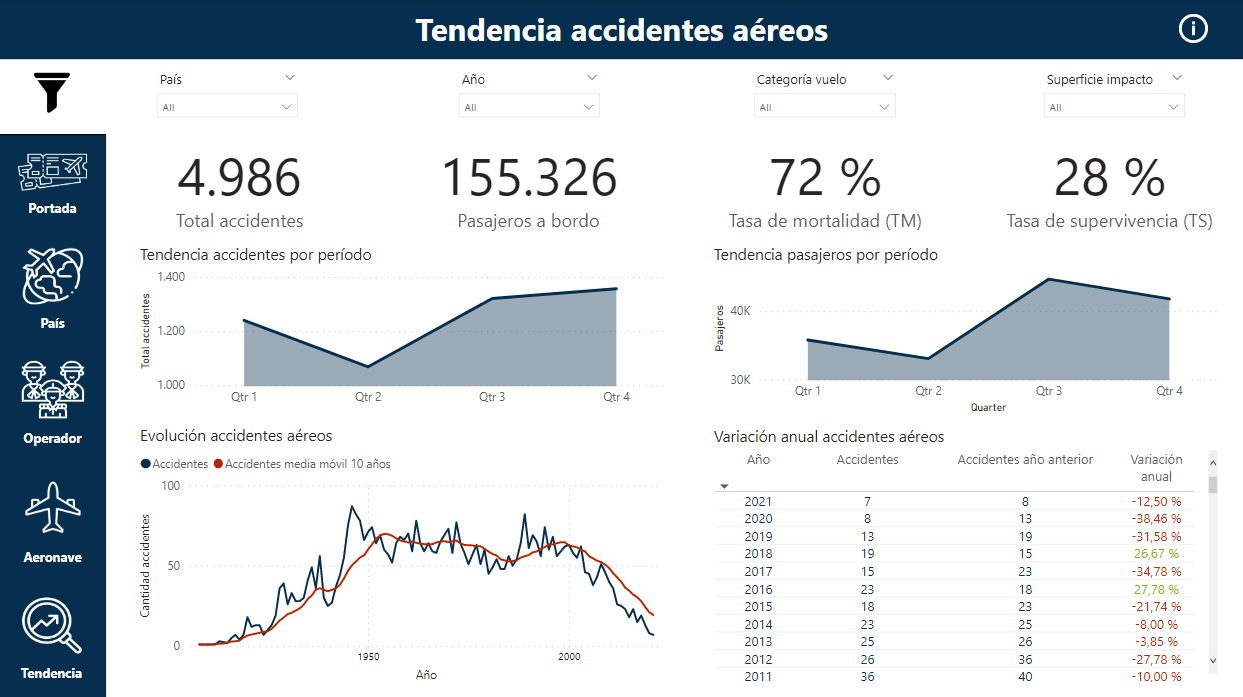

This screenshot's page, from the dashboard's own definition file:
{"tool":"powerbi","page":{"name":"Tendencia","canvas":[1280,720],"ordinal":4},"visuals":[{"type":"shape","box":[0,0,1280,61.8],"z":0},{"type":"image","box":[16.4,366.8,80.9,69.3],"z":0,"group":"g3"},{"type":"textbox","box":[25,3,1233,55],"z":1000},{"type":"textbox","box":[16.4,436.2,80.9,28.8],"z":1000,"group":"g3"},{"type":"image","box":[31,68.2,51.4,55.8],"z":2000},{"type":"image","box":[16.4,139.1,80.9,76.2],"z":2001,"group":"g1"},{"type":"image","box":[16.4,250.7,80.9,67.7],"z":2002,"group":"g2"},{"type":"image","box":[16.4,484.8,80.9,74.1],"z":2003,"group":"g4"},{"type":"image","box":[15.5,607.3,80.9,69.6],"z":2005,"group":"g5"},{"type":"textbox","box":[16.4,318.5,80.9,28.5],"z":2007,"group":"g2"},{"type":"textbox","box":[16.4,559,80.9,28.6],"z":2009,"group":"g4"},{"type":"textbox","box":[15.5,676.9,80.9,28.5],"z":2010,"group":"g5"},{"type":"textbox","box":[16.4,199.8,80.9,31.3],"z":2011,"group":"g1"},{"type":"shape","box":[0,139,112,581],"z":3000},{"type":"group","id":"g1","title":"Group 1","box":[16.4,139.1,80.9,91.8],"z":4000},{"type":"group","id":"g2","title":"Group 2","box":[16.4,250.7,80.9,96.4],"z":5000},{"type":"group","id":"g3","title":"Group 3","box":[16.4,366.8,80.9,98.2],"z":6000},{"type":"group","id":"g4","title":"Group 4","box":[16.4,484.8,80.9,102.7],"z":7000},{"type":"group","id":"g5","title":"Group 5","box":[15.5,607.3,80.9,98.2],"z":8000},{"type":"slicer","fields":{"Values":["calendar.Year"]},"box":[464.1,68.2,164.7,55.8],"z":9000},{"type":"slicer","fields":{"Values":["categories.category"]},"box":[766.9,68.2,165.6,55.8],"z":10000},{"type":"slicer","fields":{"Values":["surfaces.surface"]},"box":[1064.5,68.2,164.7,55.8],"z":11000},{"type":"slicer","fields":{"Values":["countries.country"]},"box":[154.1,68.2,164.7,55.8],"z":12000},{"type":"lineChart","title":"Evolución accidentes aéreos","fields":{"Y":["metrics.total_accidents","metrics.total_accidents rolling average"],"Category":["calendar.Date.Variation.Date Hierarchy.Year"]},"box":[141.7,436.2,549.2,270],"z":13000},{"type":"stackedAreaChart","title":"Tendencia accidentes por período","fields":{"Category":["calendar.Date.Variation.Date Hierarchy.Quarter","calendar.Date.Variation.Date Hierarchy.Month","calendar.Date.Variation.Date Hierarchy.Day"],"Y":["metrics.total_accidents"]},"box":[141.8,250.7,549.6,175.7],"z":14000},{"type":"card","fields":{"Values":["metrics.total_accidents"]},"box":[141.8,138.7,214.7,104.8],"z":15000},{"type":"card","fields":{"Values":["metrics.total_aboard"]},"box":[443.1,138.7,196.2,104.8],"z":16000},{"type":"card","fields":{"Values":["metrics.mortality_rate"]},"box":[725.9,138.7,213.7,104.8],"z":17000},{"type":"card","fields":{"Values":["metrics.survival_rate"]},"box":[1026.3,138.7,231.1,104.8],"z":18000},{"type":"stackedAreaChart","title":"Tendencia pasajeros por período","fields":{"Category":["calendar.Date.Variation.Date Hierarchy.Quarter","calendar.Date.Variation.Date Hierarchy.Month","calendar.Date.Variation.Date Hierarchy.Day"],"Y":["metrics.total_aboard"]},"box":[730.4,250.7,527,178.7],"z":19000},{"type":"actionButton","box":[1208.1,10.3,40.1,40.1],"z":20000},{"type":"tableEx","title":"Variación anual accidentes aéreos","fields":{"Values":["calendar.Year","metrics.total_accidents","metrics.total_accidents_last_year","metrics.total_accidents YoY%"]},"box":[730.8,437.3,526.6,268.9],"z":21000}]}

Visuals, with their boxes on the page's 1280x720 design canvas (x1, y1, x2, y2). These are canvas units, not pixel positions in the 1243x697 screenshot, which may show the page scaled, cropped or inside an application window:
shape: 0:0:1280:62
image: 16:367:97:436
textbox: 25:3:1258:58
textbox: 16:436:97:465
image: 31:68:82:124
image: 16:139:97:215
image: 16:251:97:318
image: 16:485:97:559
image: 16:607:96:677
textbox: 16:318:97:347
textbox: 16:559:97:588
textbox: 16:677:96:705
textbox: 16:200:97:231
shape: 0:139:112:720
"Group 1" group: 16:139:97:231
"Group 2" group: 16:251:97:347
"Group 3" group: 16:367:97:465
"Group 4" group: 16:485:97:588
"Group 5" group: 16:607:96:706
slicer - calendar.Year: 464:68:629:124
slicer - categories.category: 767:68:932:124
slicer - surfaces.surface: 1064:68:1229:124
slicer - countries.country: 154:68:319:124
"Evolución accidentes aéreos" lineChart: 142:436:691:706
"Tendencia accidentes por período" stackedAreaChart: 142:251:691:426
card - metrics.total_accidents: 142:139:356:244
card - metrics.total_aboard: 443:139:639:244
card - metrics.mortality_rate: 726:139:940:244
card - metrics.survival_rate: 1026:139:1257:244
"Tendencia pasajeros por período" stackedAreaChart: 730:251:1257:429
actionButton: 1208:10:1248:50
"Variación anual accidentes aéreos" tableEx: 731:437:1257:706
